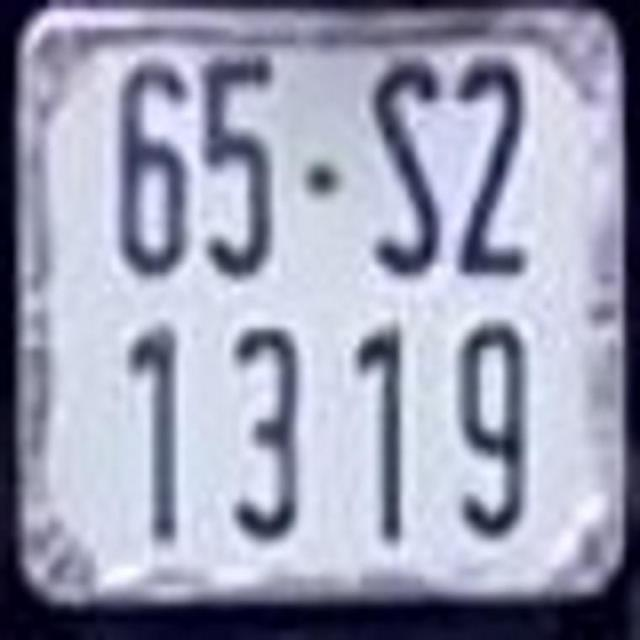1: (346, 318, 418, 548), (123, 318, 192, 542)
2: (449, 54, 528, 276)
3: (222, 312, 304, 543)
5: (197, 46, 277, 276)
6: (114, 53, 192, 274)
9: (450, 310, 528, 540)
S: (368, 50, 446, 282)
